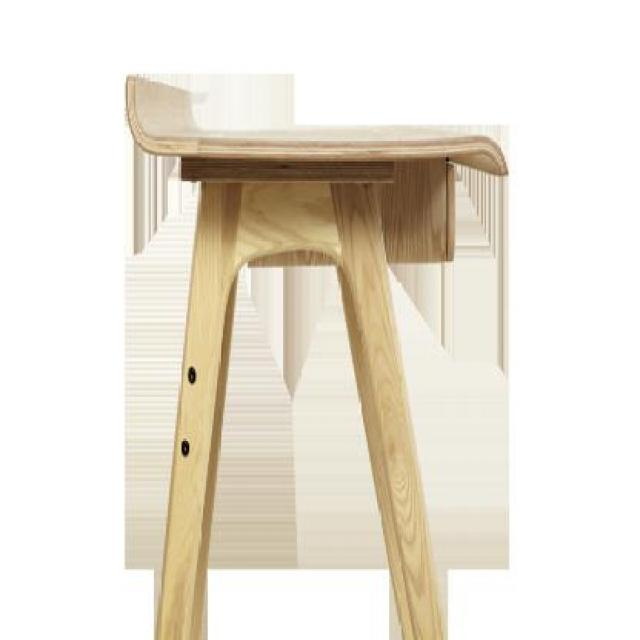table: (121, 60, 508, 638)
